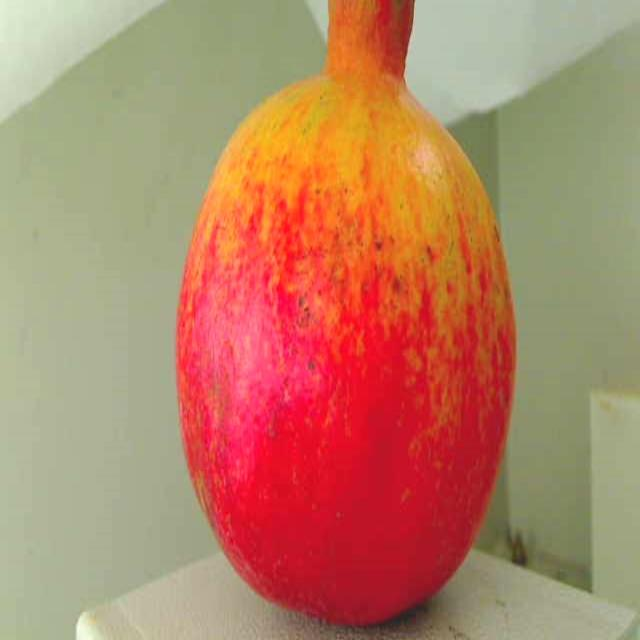pomegranate: (164, 0, 525, 627)
